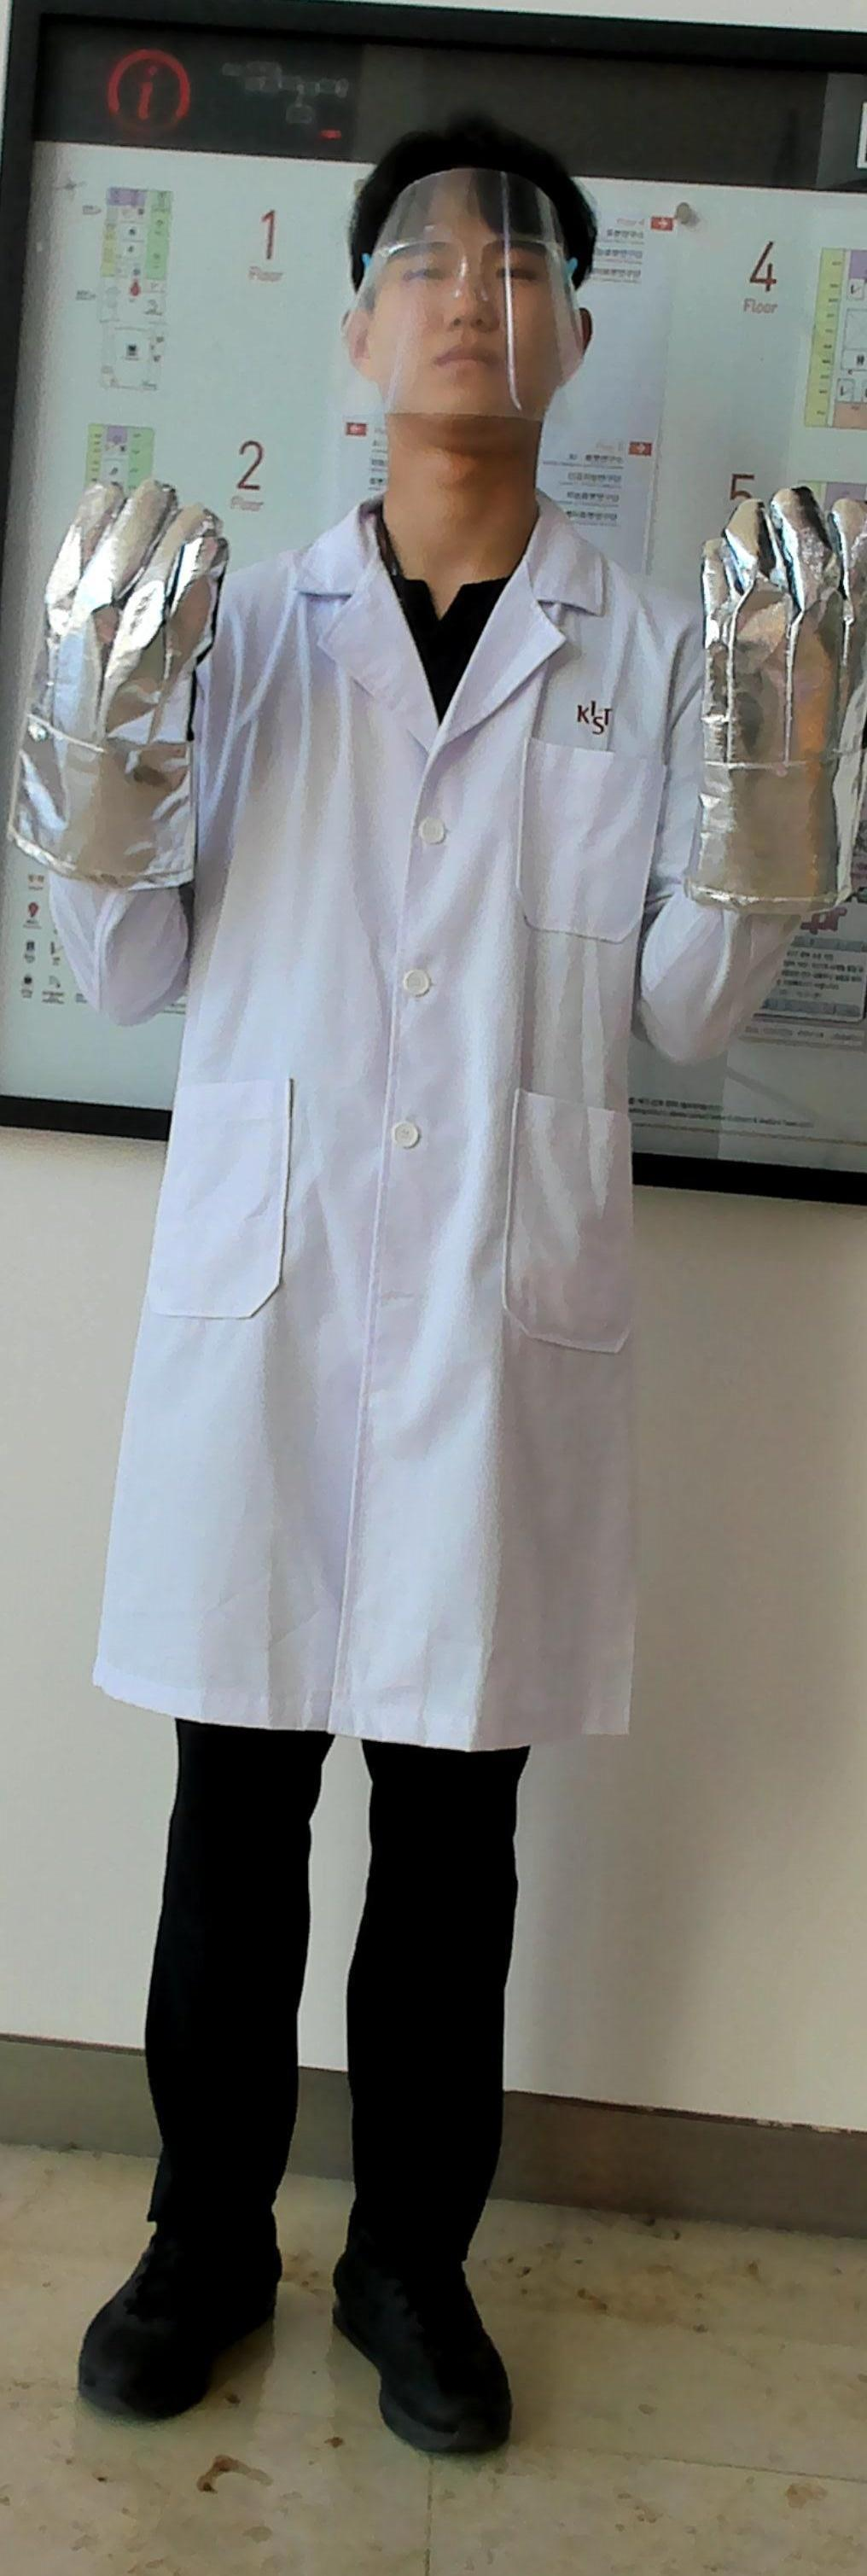lab_coat: (187, 603, 683, 1720)
